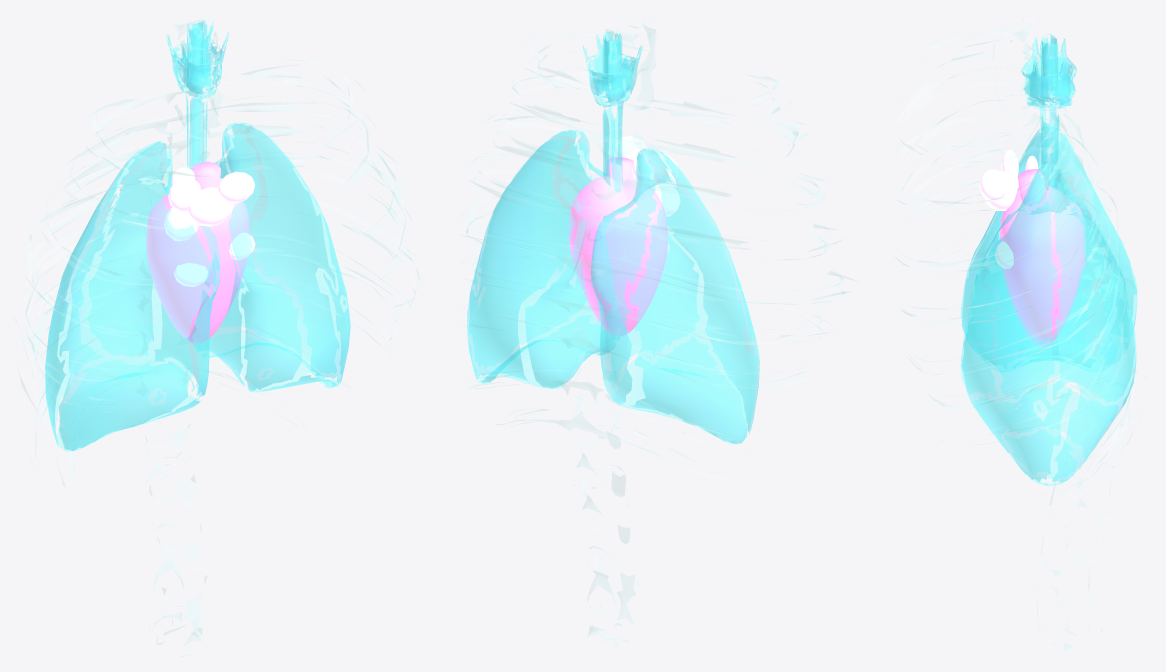
File: heart-anatomical.glb
The picture shows the model from 3 angles, left to right: view 1: azimuth 30°, elevation 25°; view 2: azimuth 150°, elevation 25°; view 3: azimuth 270°, elevation 25°; orthographic projection. The views are drawn at different scales.
Visible parts, largest first — view 1: Lungs, Ribcage, Heart, AmyloidAnat_5, AmyloidAnat_8, AmyloidAnat_0, AmyloidAnat_2, AmyloidAnat_7, AortaAnat; view 2: Lungs, Ribcage, Heart, AmyloidAnat_2, AmyloidAnat_8, AmyloidAnat_0; view 3: Lungs, Ribcage, Heart, AortaAnat, AmyloidAnat_8, AmyloidAnat_5, AmyloidAnat_6, AmyloidAnat_2.
Part boxes in pixels (<box>): Lungs: <box>45,20,350,451</box>; Ribcage: <box>15,17,424,655</box>; Heart: <box>146,178,249,343</box>; AmyloidAnat_5: <box>187,187,234,226</box>; AmyloidAnat_8: <box>217,171,255,203</box>; AmyloidAnat_0: <box>164,207,198,241</box>; AmyloidAnat_2: <box>168,177,201,211</box>; AmyloidAnat_7: <box>174,263,208,286</box>; AortaAnat: <box>192,161,220,189</box>; Lungs: <box>467,31,759,444</box>; Ribcage: <box>464,14,855,647</box>; Heart: <box>569,174,667,336</box>; AmyloidAnat_2: <box>649,153,678,184</box>; AmyloidAnat_8: <box>613,136,648,160</box>; AmyloidAnat_0: <box>649,180,680,216</box>; Lungs: <box>960,34,1137,485</box>; Ribcage: <box>896,16,1136,654</box>; Heart: <box>1000,186,1085,347</box>; AortaAnat: <box>1018,169,1047,205</box>; AmyloidAnat_8: <box>979,169,1006,201</box>; AmyloidAnat_5: <box>984,171,1017,210</box>; AmyloidAnat_6: <box>995,241,1013,268</box>; AmyloidAnat_2: <box>1001,150,1018,181</box>.
Bounding box in the file's own units: 1.21 × 1.94 × 0.7414.
